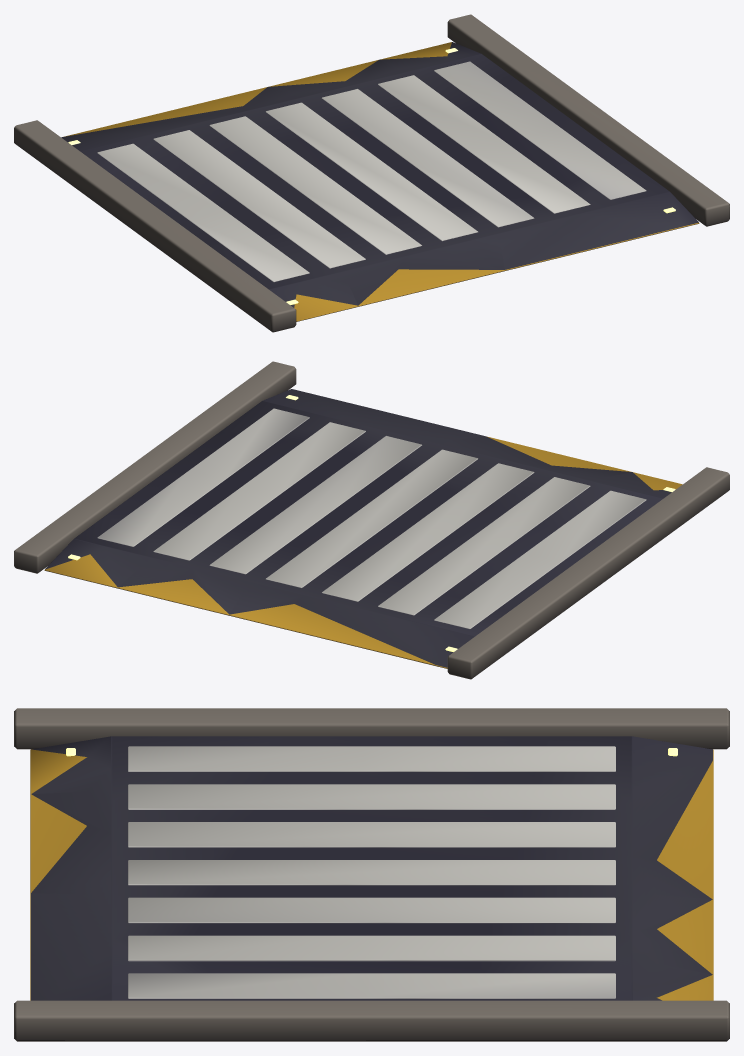
Rendered from passage_pieton.glb.
3 renders of one model, top to bottom at view 1: azimuth 30°, elevation 25°; view 2: azimuth 150°, elevation 25°; view 3: azimuth 270°, elevation 25°, orthographic. The views are drawn at different scales.
Parts seen in each view (by area): view 1: passage_pieton; view 2: passage_pieton; view 3: passage_pieton.
Boxes of the visible parts, x1=… form: passage_pieton: x1=14, y1=14, x2=729, y2=332; passage_pieton: x1=14, y1=361, x2=729, y2=679; passage_pieton: x1=14, y1=708, x2=729, y2=1041.
Size of the model in its own units: 4.5 by 0.18 by 4.4.
